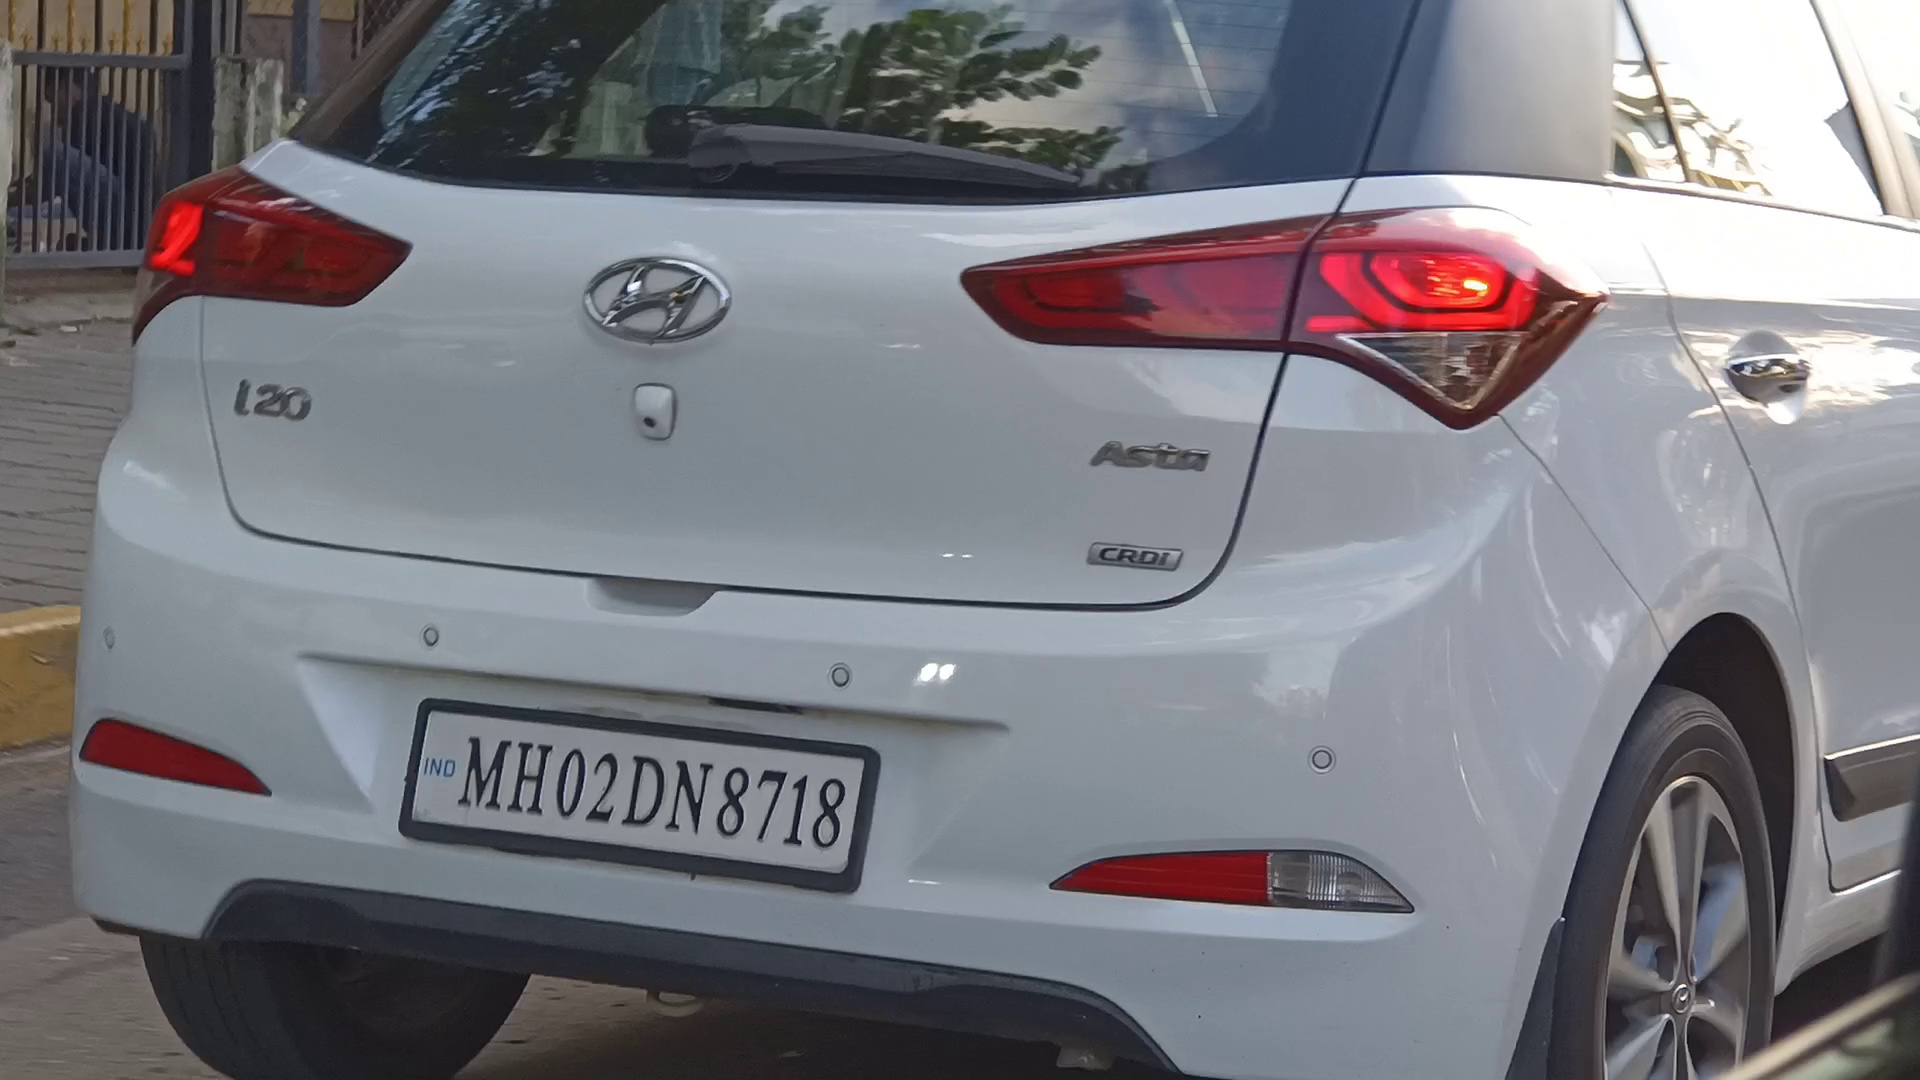MH02DN8718: (409, 709, 866, 873)
